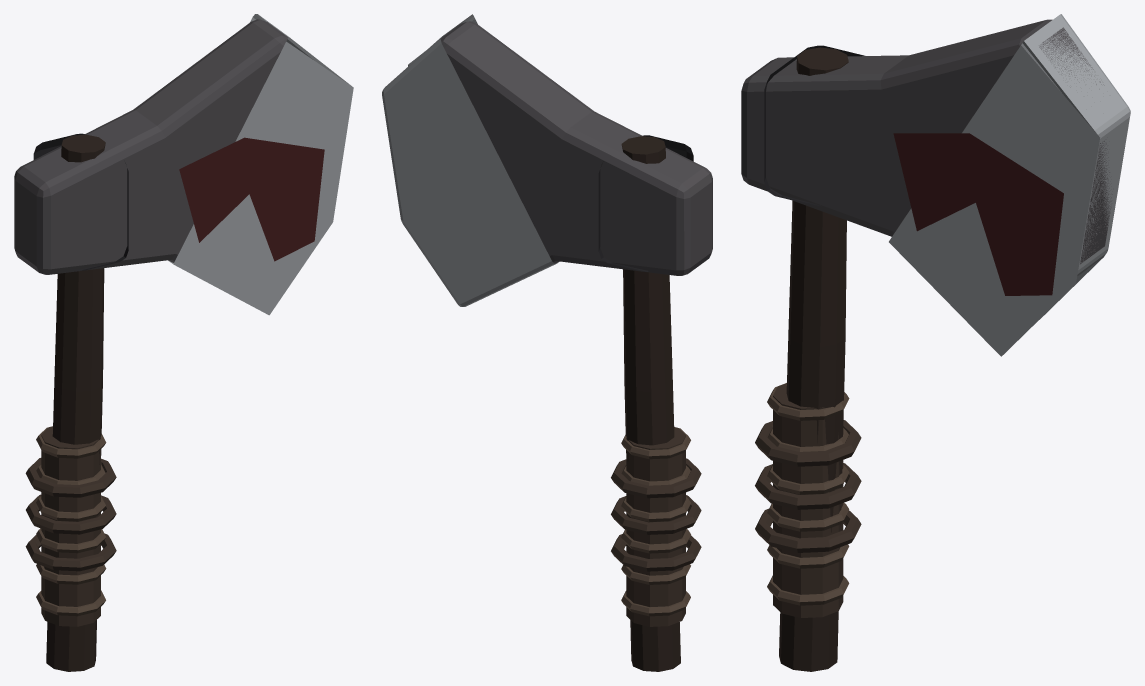
Rendered from evil_axe_offhand.glb.
The picture shows the model from 3 angles, left to right: view 1: azimuth 30°, elevation 25°; view 2: azimuth 150°, elevation 25°; view 3: azimuth 330°, elevation 25°; orthographic projection. The views are drawn at different scales.
Visible parts, largest first — view 1: Forged crescent axe blade.001, Sharpened axe cutting edge.001, Axe ash handle.001, Crimson axe blade motif, Leather axe grip.001, Woodland equipment worn binding.002, Woodland equipment worn binding, Woodland equipment worn binding.001, Grip wrapping.011, Grip wrapping.009, Grip wrapping.006, Grip wrapping.008 (+2 smaller); view 2: Forged crescent axe blade.001, Sharpened axe cutting edge.001, Axe ash handle.001, Leather axe grip.001, Woodland equipment worn binding.002, Woodland equipment worn binding, Woodland equipment worn binding.001, Iron axe socket.001, Grip wrapping.011, Grip wrapping.008, Grip wrapping.009, Grip wrapping.006 (+1 smaller); view 3: Forged crescent axe blade.001, Sharpened axe cutting edge.001, Axe ash handle.001, Crimson axe blade motif, Leather axe grip.001, Woodland equipment worn binding.002, Woodland equipment worn binding, Woodland equipment worn binding.001, Grip wrapping.006, Grip wrapping.008, Grip wrapping.009, Grip wrapping.011 (+2 smaller).
Part boxes in pixels (left/top/right/bottom): Forged crescent axe blade.001: left=14, top=19, right=287, bottom=274; Sharpened axe cutting edge.001: left=168, top=14, right=353, bottom=315; Axe ash handle.001: left=46, top=134, right=105, bottom=671; Crimson axe blade motif: left=179, top=137, right=324, bottom=261; Leather axe grip.001: left=41, top=426, right=100, bottom=626; Woodland equipment worn binding.002: left=25, top=458, right=116, bottom=497; Woodland equipment worn binding: left=25, top=533, right=116, bottom=571; Woodland equipment worn binding.001: left=26, top=494, right=116, bottom=534; Grip wrapping.011: left=36, top=427, right=106, bottom=458; Grip wrapping.009: left=36, top=496, right=106, bottom=521; Grip wrapping.006: left=36, top=590, right=105, bottom=616; Grip wrapping.008: left=36, top=528, right=105, bottom=553; Forged crescent axe blade.001: left=440, top=21, right=712, bottom=275; Sharpened axe cutting edge.001: left=382, top=14, right=559, bottom=306; Axe ash handle.001: left=621, top=136, right=680, bottom=671; Leather axe grip.001: left=626, top=427, right=685, bottom=626; Woodland equipment worn binding.002: left=611, top=458, right=701, bottom=498; Woodland equipment worn binding: left=611, top=534, right=701, bottom=571; Woodland equipment worn binding.001: left=611, top=495, right=701, bottom=534; Iron axe socket.001: left=598, top=135, right=693, bottom=271; Grip wrapping.011: left=621, top=428, right=690, bottom=459; Grip wrapping.008: left=621, top=529, right=690, bottom=553; Grip wrapping.009: left=621, top=496, right=690, bottom=521; Grip wrapping.006: left=621, top=591, right=690, bottom=616; Forged crescent axe blade.001: left=741, top=19, right=1112, bottom=264; Sharpened axe cutting edge.001: left=889, top=14, right=1130, bottom=356; Axe ash handle.001: left=779, top=47, right=848, bottom=671; Crimson axe blade motif: left=893, top=133, right=1063, bottom=295; Leather axe grip.001: left=773, top=383, right=843, bottom=617; Woodland equipment worn binding.002: left=755, top=420, right=861, bottom=466; Woodland equipment worn binding: left=755, top=508, right=861, bottom=552; Woodland equipment worn binding.001: left=755, top=463, right=861, bottom=509; Grip wrapping.006: left=767, top=575, right=849, bottom=605; Grip wrapping.008: left=767, top=503, right=849, bottom=531; Grip wrapping.009: left=767, top=465, right=849, bottom=494; Grip wrapping.011: left=767, top=383, right=849, bottom=420.
Size of the model in its own units: 0.6196 by 1.12 by 0.16.
